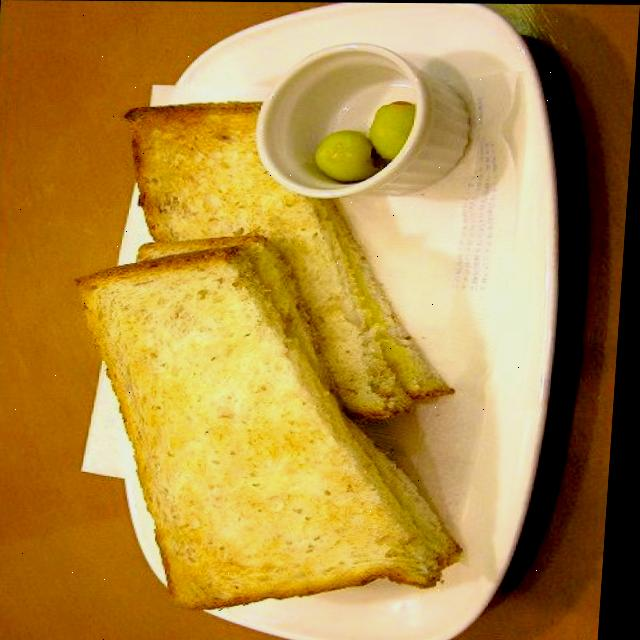面包点心: (84, 82, 454, 592)
